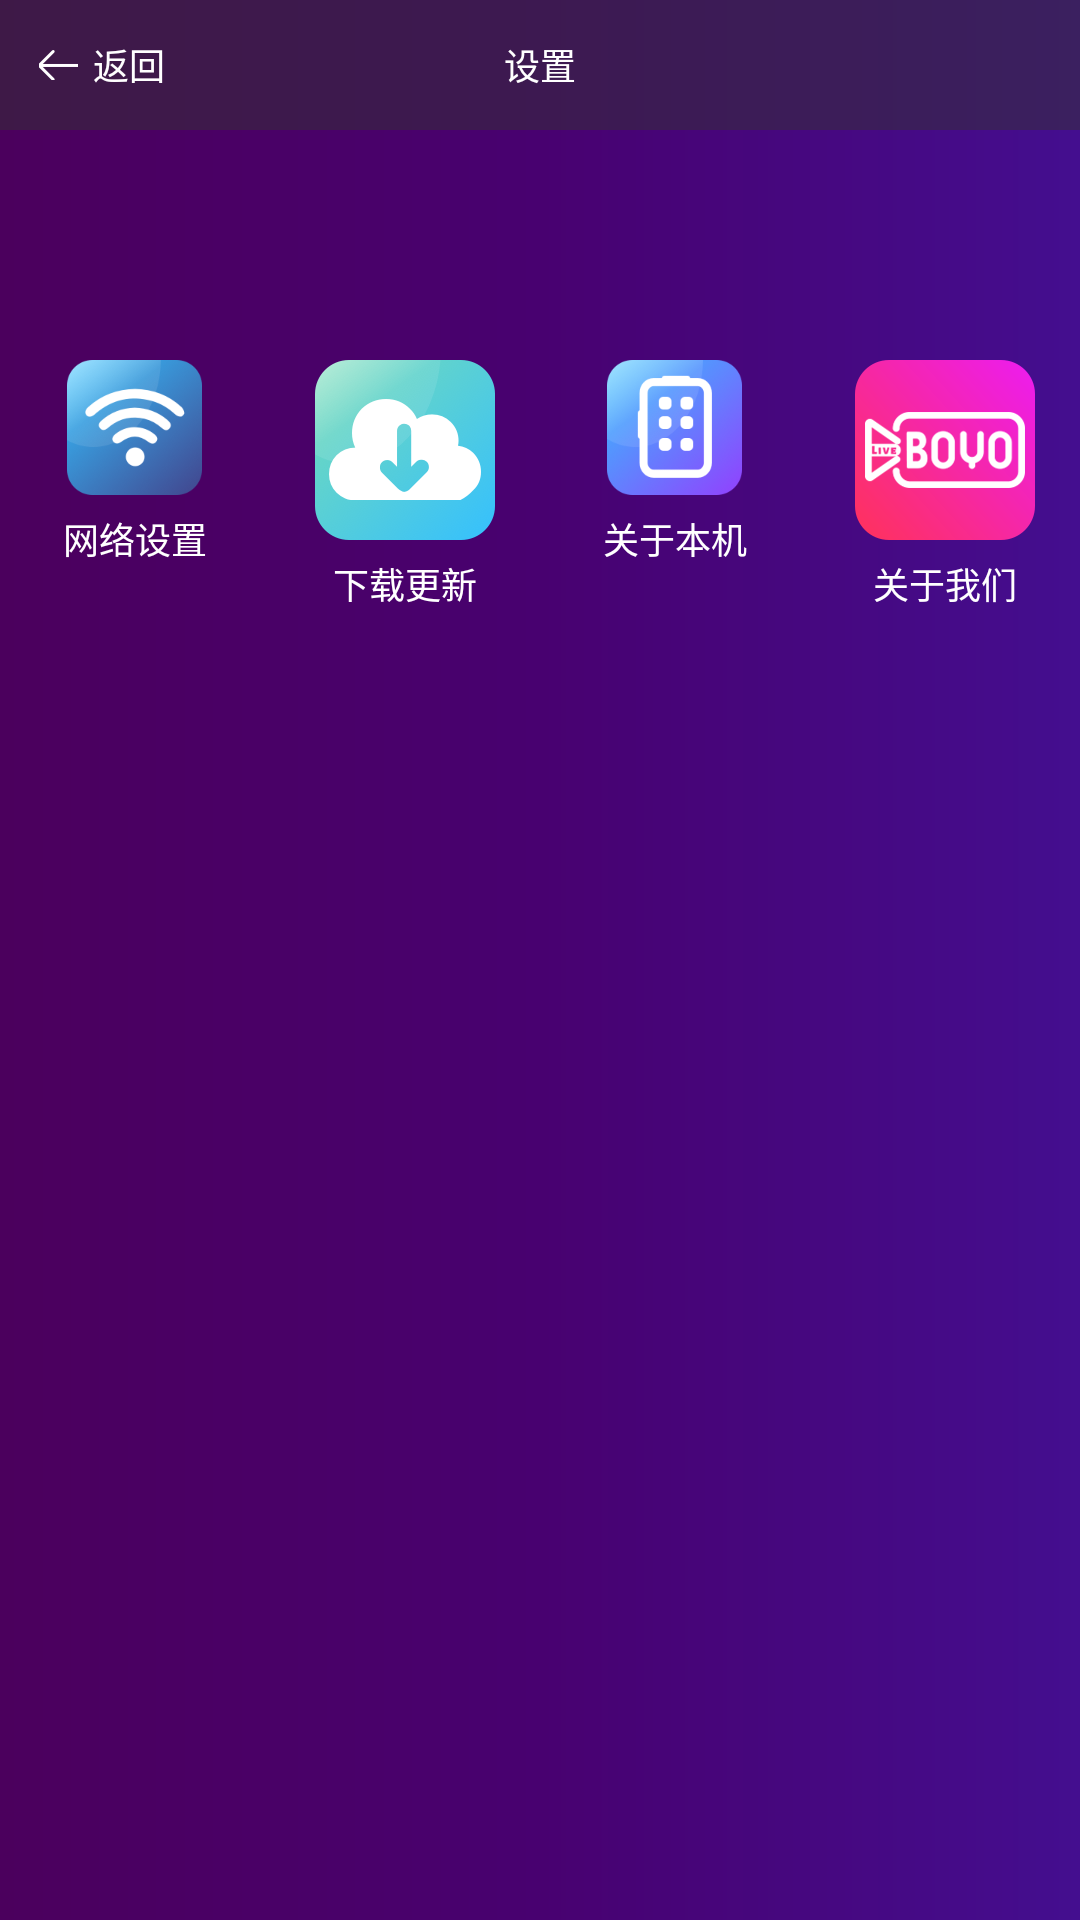

Locate icon controls on the screen. Image size 1080 × 1920, boxes as (x1,y1,x2,y2).
equipment: (607,360,742,495)
wifi: (67,360,202,495)
